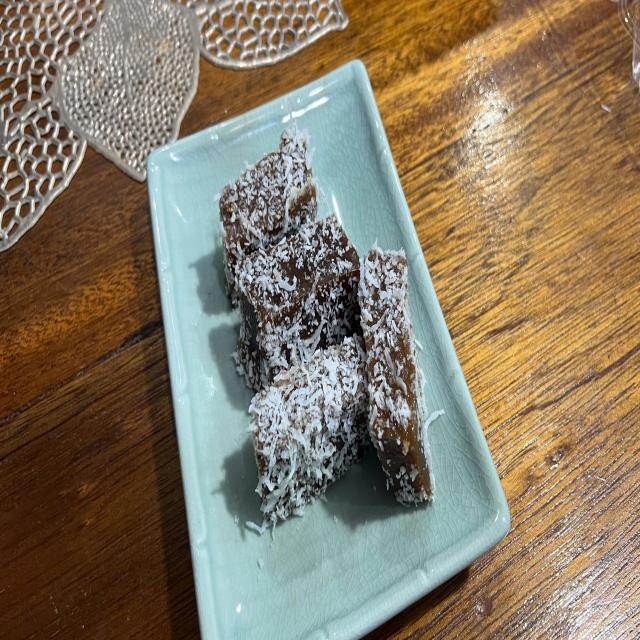kaswi: (248, 336, 369, 533), (235, 213, 361, 391), (359, 244, 434, 504), (219, 124, 318, 304)
